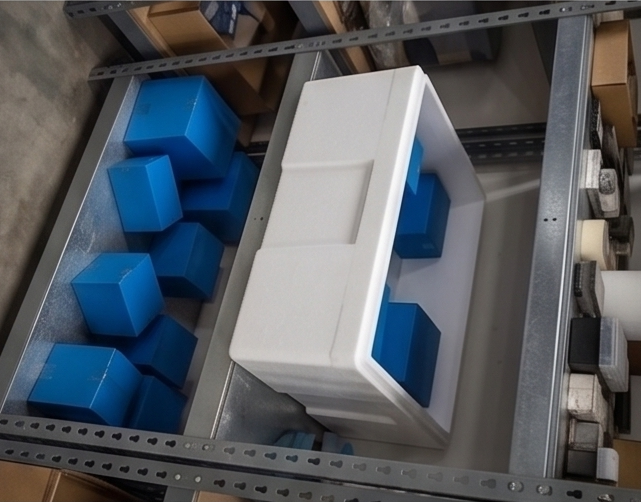blue_box: (398, 318, 517, 425), (501, 73, 613, 158), (474, 164, 570, 250), (379, 257, 462, 350), (443, 108, 536, 185), (197, 91, 261, 199), (454, 268, 535, 346), (415, 199, 492, 280), (190, 241, 248, 328), (451, 65, 521, 127), (248, 139, 270, 219), (217, 305, 241, 366)
container_box: (152, 52, 414, 435)
